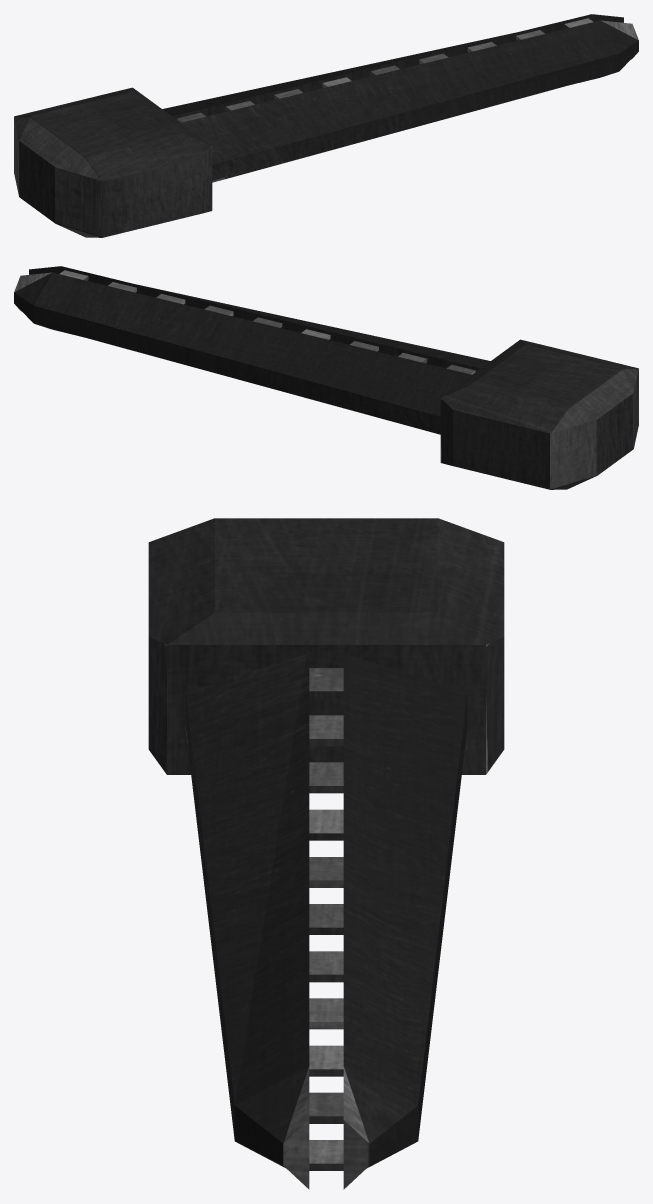
File: Railgun.fbx
3 views of the same model, one above another, from view 1: azimuth 30°, elevation 25°; view 2: azimuth 150°, elevation 25°; view 3: azimuth 270°, elevation 25° (orthographic). The views are drawn at different scales.
Parts seen in each view (by area): view 1: Cube; view 2: Cube; view 3: Cube.
Part boxes in pixels (left/top/right/bottom): Cube: left=14, top=14, right=638, bottom=237; Cube: left=14, top=266, right=638, bottom=489; Cube: left=148, top=518, right=504, bottom=1189.
Bounding box in the file's own units: 1339 × 174 × 349.
